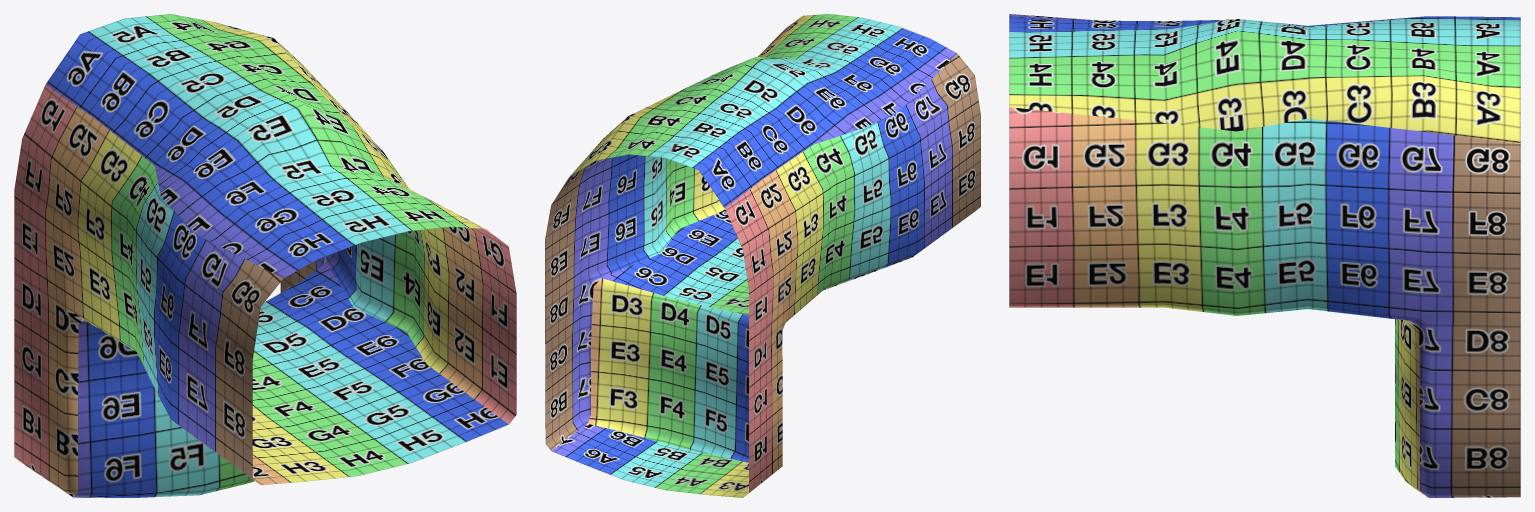
File: grotte_cliff.fbx
The picture shows the model from 3 angles, left to right: view 1: azimuth 30°, elevation 25°; view 2: azimuth 150°, elevation 25°; view 3: azimuth 270°, elevation 25°; orthographic projection. The views are drawn at different scales.
Parts seen in each view (by area): view 1: grotte_cliff; view 2: grotte_cliff; view 3: grotte_cliff.
Part boxes in pixels (box(x1,y1,x2,y2)): grotte_cliff: box(14, 14, 516, 497); grotte_cliff: box(545, 14, 980, 497); grotte_cliff: box(1009, 14, 1520, 497).
Bounding box in the file's own units: 511 × 732 × 800.
Materials: 1 (1 with a texture image).
